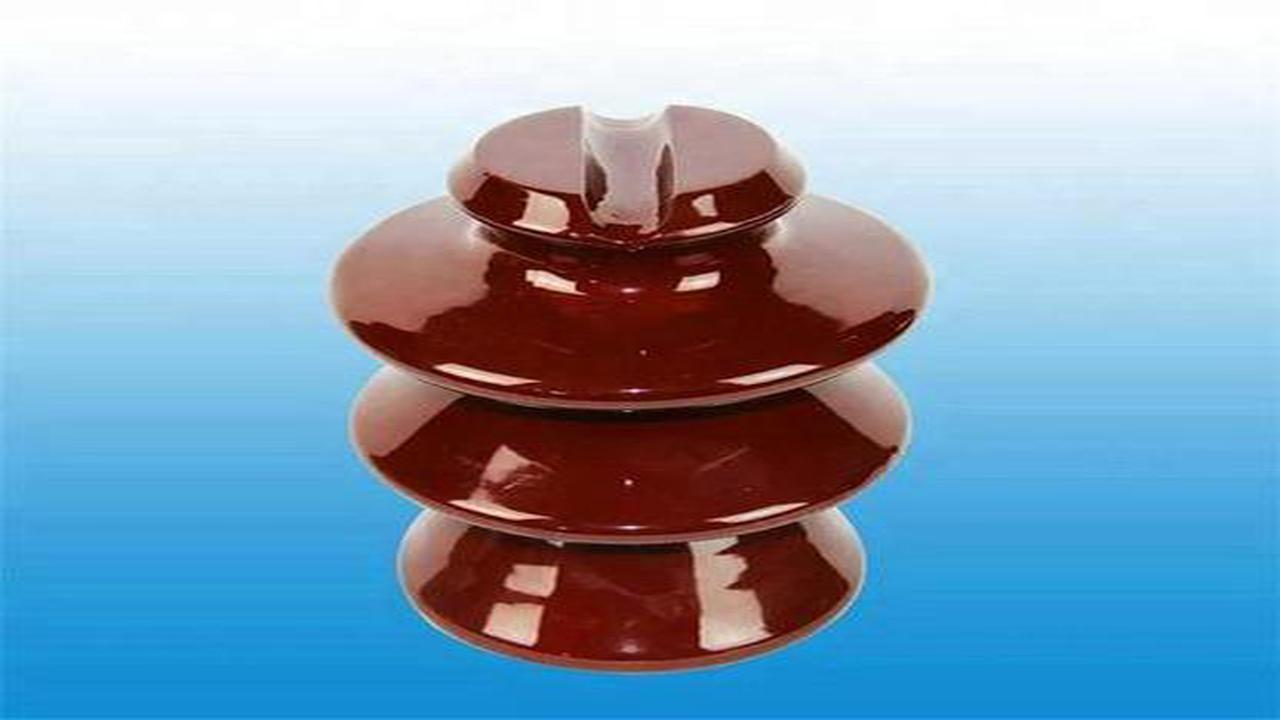insulator_pin: (348, 96, 844, 262)
